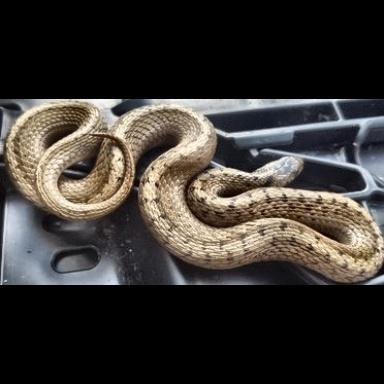snake: (9, 102, 384, 284)
